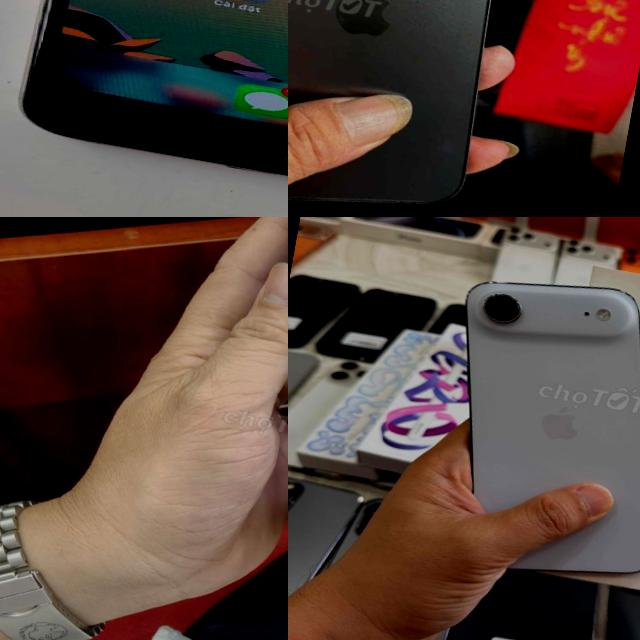scratch: (237, 217, 288, 575)
